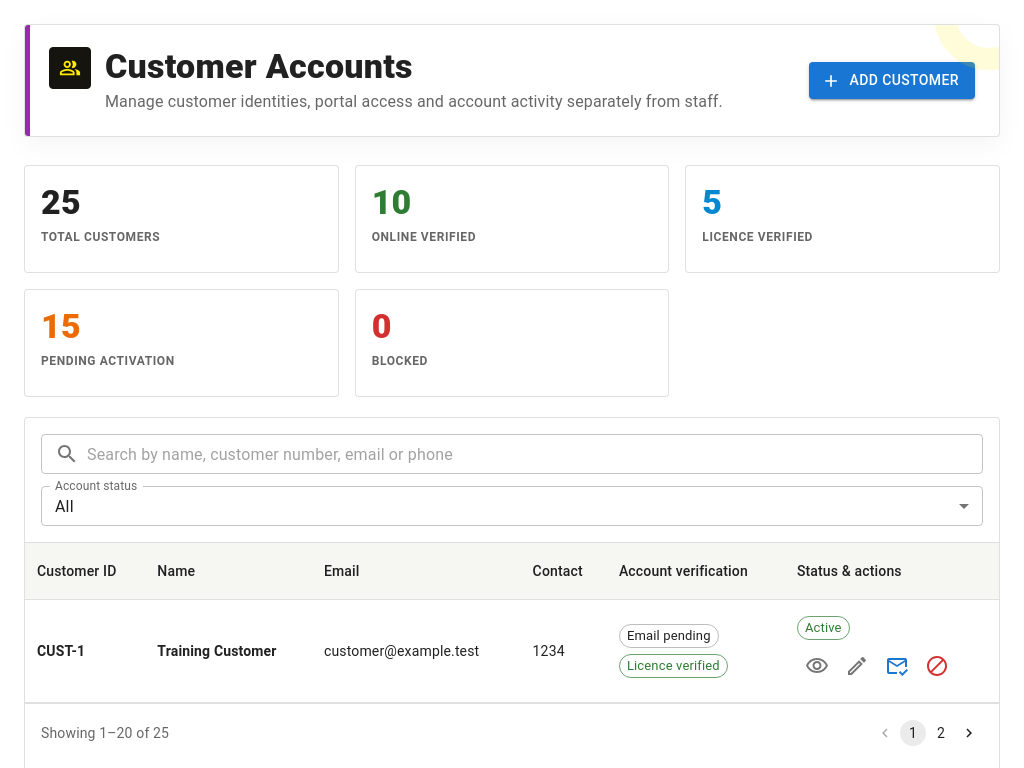
Test: creates and edits customer contact details without changing the system identifier
This screenshot has width=1024, height=768.
Later steps or results of the test are not shown.
Expected: the text "Training Customer" is shown, [145,600,312,703]
Click the button "Add customer" at [892, 81], box [810,62,975,99]
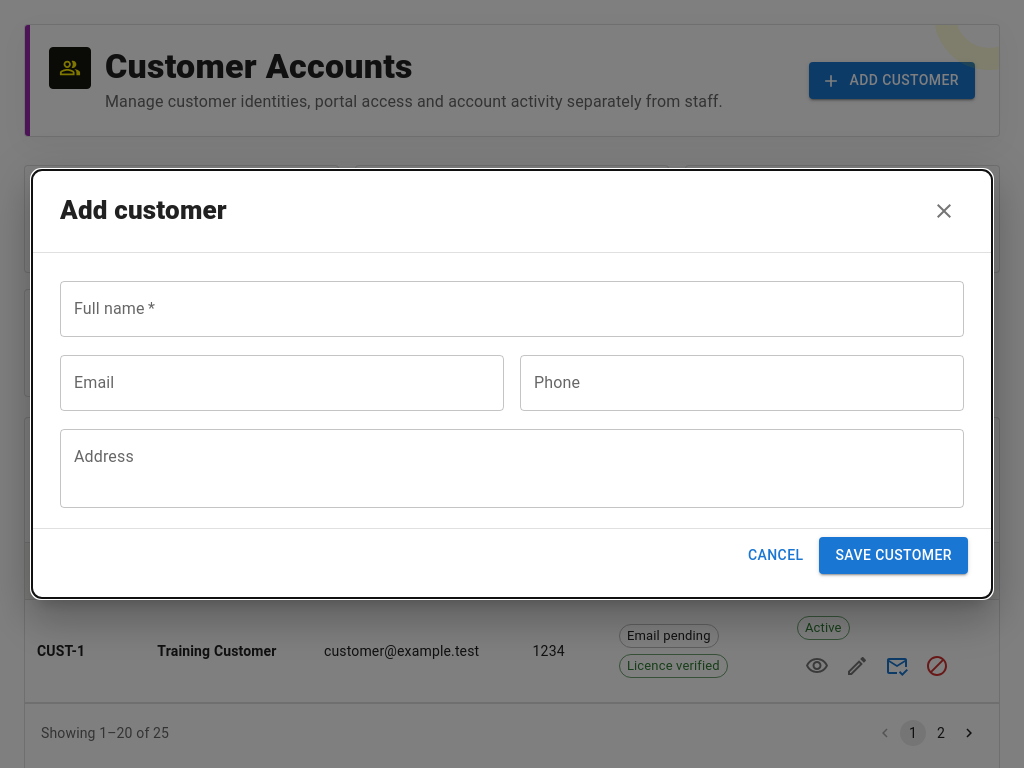
Type "New Customer" into the field labelled "Full name *" at [512, 309], box [60,281,964,337]
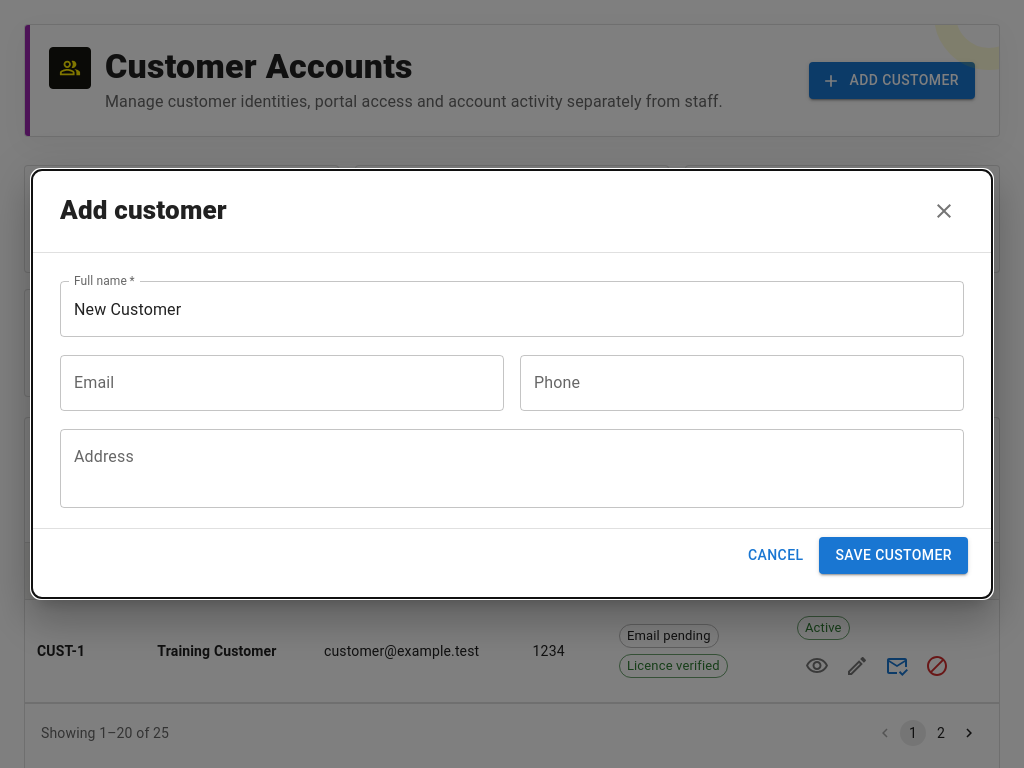
Type "new@example.test" into the field labelled "Email" at [282, 383], box [60,355,504,411]
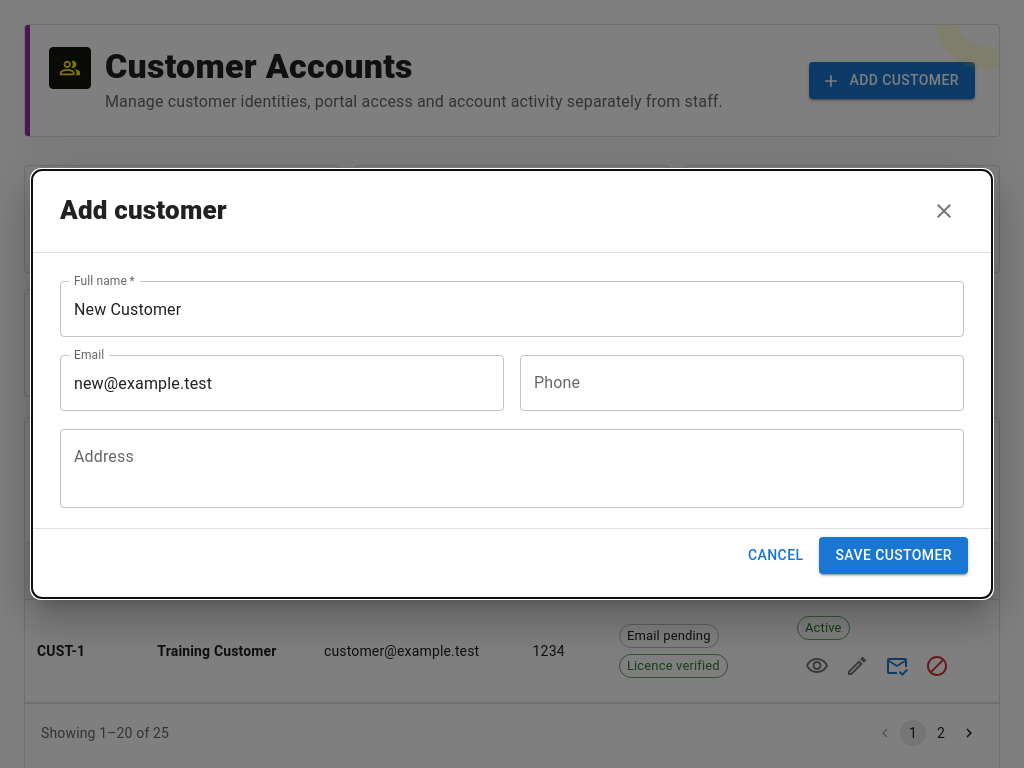
Type "5555" into the field labelled "Phone" at [742, 383], box [520,355,964,411]
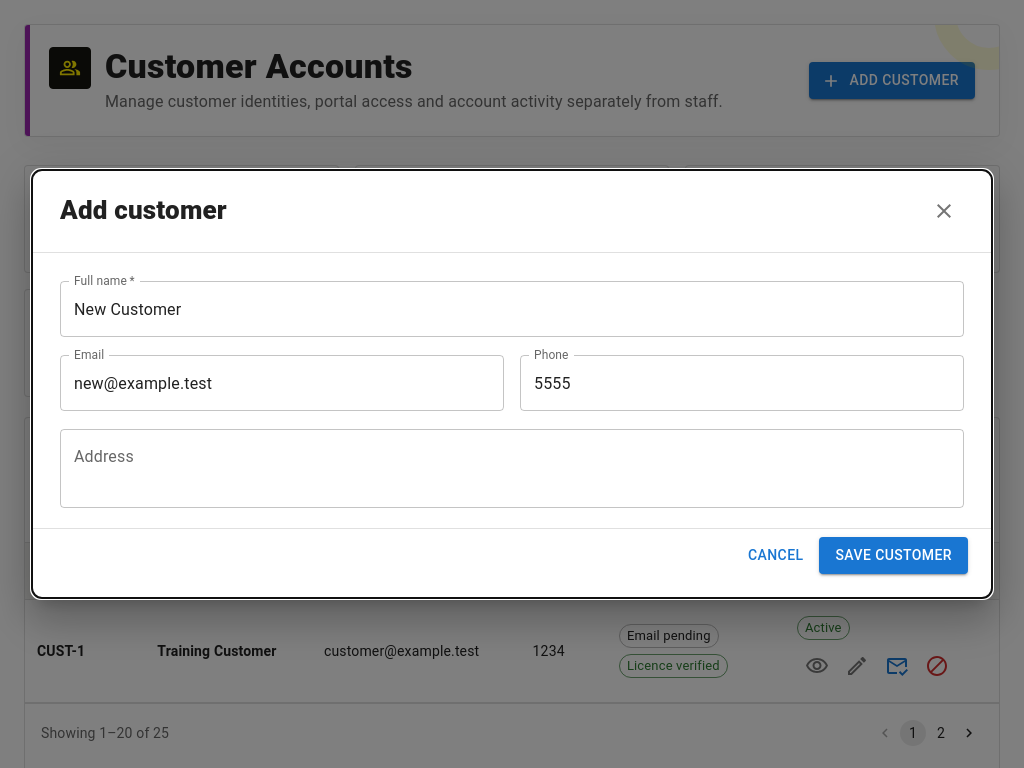
Type "Nadi" into the text box labelled "Address" at [512, 468], box [74,446,950,492]
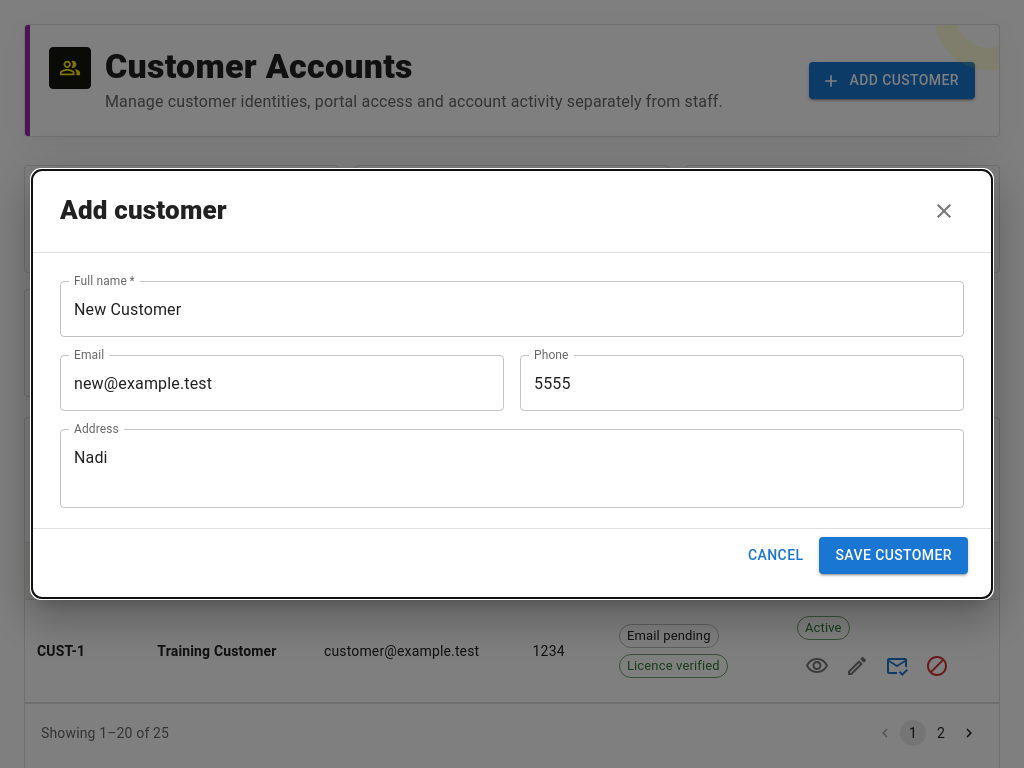
Click the button "Save customer" at [894, 555], box [820,537,968,574]
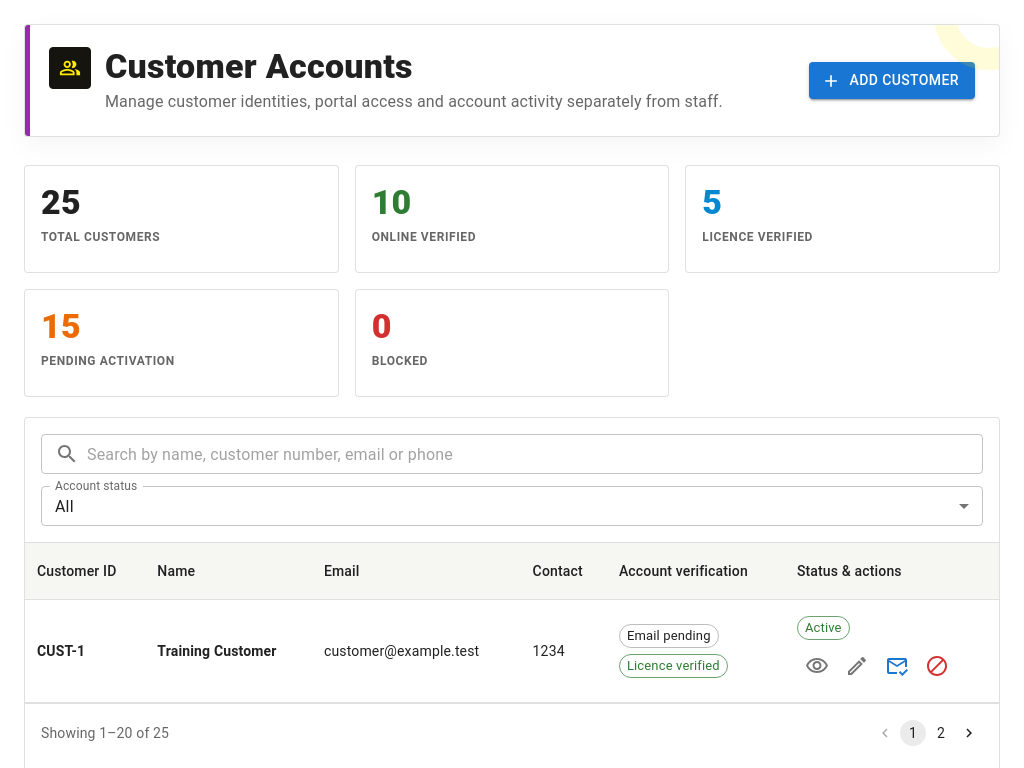
Expected: the dialog is gone
